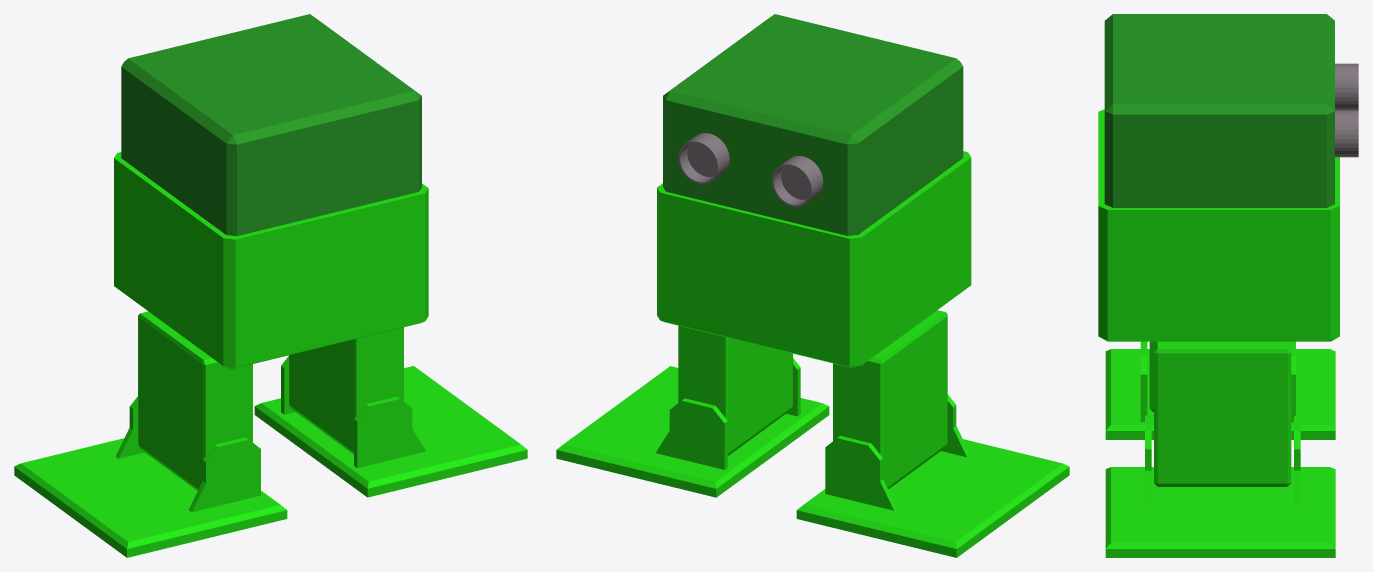
Rendered from Biped robot.glb.
The picture shows the model from 3 angles, left to right: view 1: azimuth 30°, elevation 25°; view 2: azimuth 150°, elevation 25°; view 3: azimuth 270°, elevation 25°; orthographic projection. The views are drawn at different scales.
Parts seen in each view (by area): view 1: Cube, Cube.001, Cube.005, Cube.003, Cube.004, Cube.002; view 2: Cube, Cube.001, Cube.005, Cube.003, Cube.004, Cube.002, Cylinder, Cylinder.001; view 3: Cube, Cube.001, Cube.002, Cube.003, Cube.005, Cylinder, Cylinder.001, Cube.004.
Part boxes in pixels (bbox=[...]): Cube: bbox=[121, 14, 421, 236]; Cube.001: bbox=[114, 152, 428, 369]; Cube.005: bbox=[14, 396, 287, 557]; Cube.003: bbox=[254, 356, 527, 497]; Cube.004: bbox=[138, 311, 252, 490]; Cube.002: bbox=[289, 327, 403, 454]; Cube: bbox=[663, 14, 963, 235]; Cube.001: bbox=[657, 151, 971, 368]; Cube.005: bbox=[796, 394, 1069, 557]; Cube.003: bbox=[556, 358, 829, 497]; Cube.004: bbox=[833, 310, 947, 489]; Cube.002: bbox=[678, 325, 792, 455]; Cylinder: bbox=[678, 133, 729, 184]; Cylinder.001: bbox=[772, 156, 823, 207]; Cube: bbox=[1104, 14, 1334, 207]; Cube.001: bbox=[1098, 109, 1339, 341]; Cube.002: bbox=[1154, 341, 1291, 486]; Cube.003: bbox=[1105, 415, 1335, 557]; Cube.005: bbox=[1105, 341, 1335, 439]; Cylinder: bbox=[1335, 110, 1358, 157]; Cylinder.001: bbox=[1335, 63, 1358, 110]; Cube.004: bbox=[1149, 341, 1153, 412].
Bounding box in the file's own units: 4.1 × 3.84 × 2.26.
